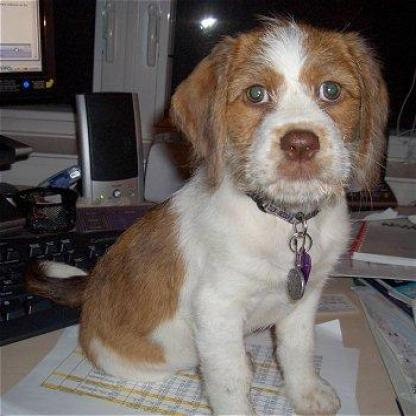Saint_Bernard: (66, 6, 392, 414)
